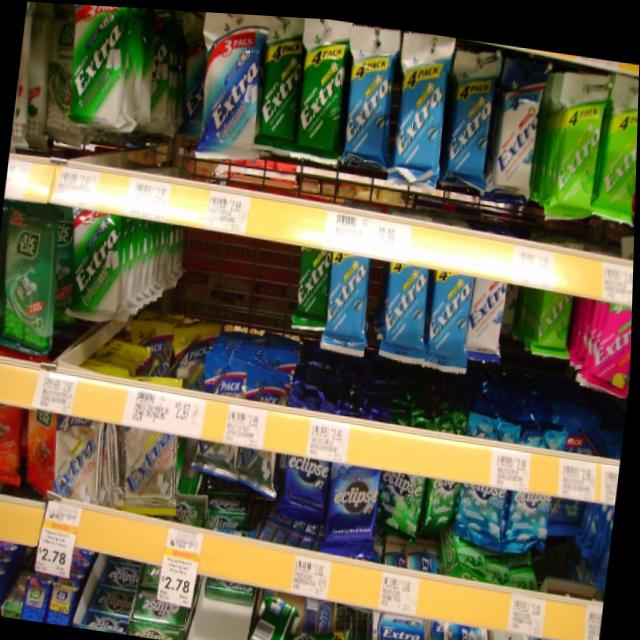q94: (490, 81, 547, 204), (466, 261, 514, 360)
